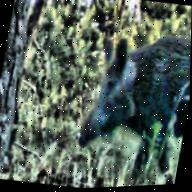boar: (72, 20, 191, 182)
